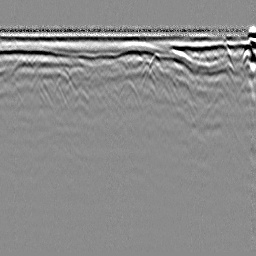cavity: (113, 77, 143, 110)
